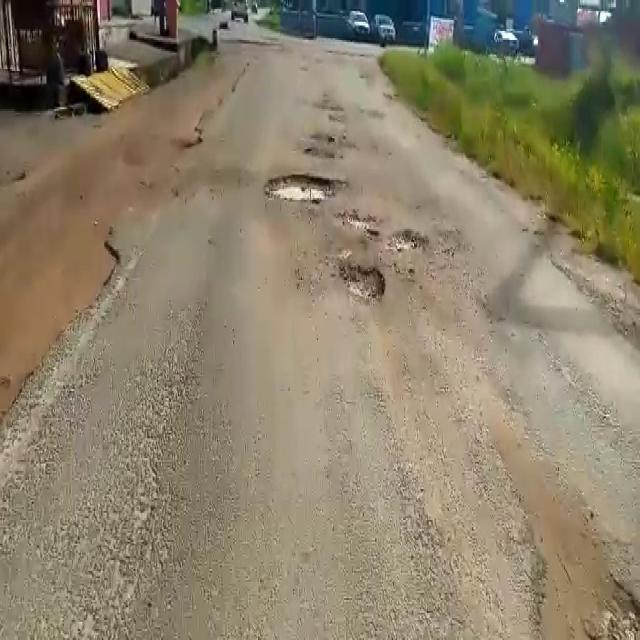pothole: (263, 170, 342, 206), (339, 261, 388, 306), (386, 223, 428, 258), (339, 210, 381, 236), (307, 130, 346, 150)
